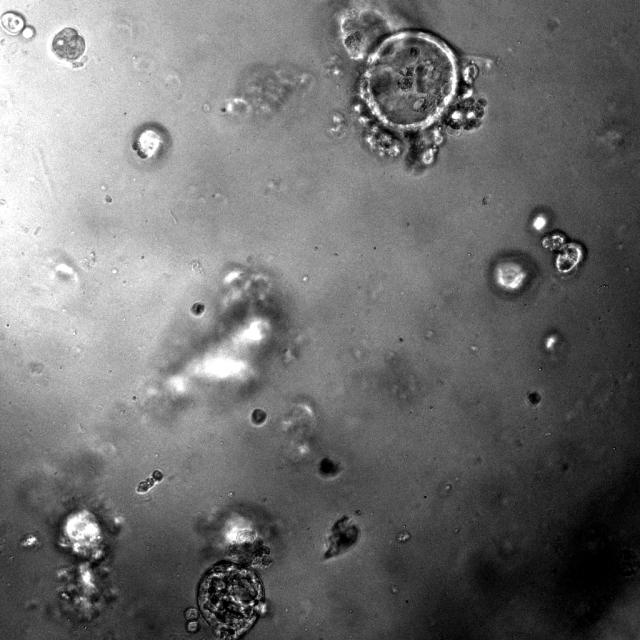organoid: (334, 0, 484, 172), (184, 527, 272, 639), (56, 498, 121, 624), (529, 206, 585, 272), (324, 515, 360, 559), (52, 27, 84, 60), (0, 10, 34, 39), (137, 469, 164, 493), (319, 457, 339, 476), (19, 532, 41, 549), (251, 408, 267, 425), (191, 301, 206, 316), (528, 391, 541, 406)
